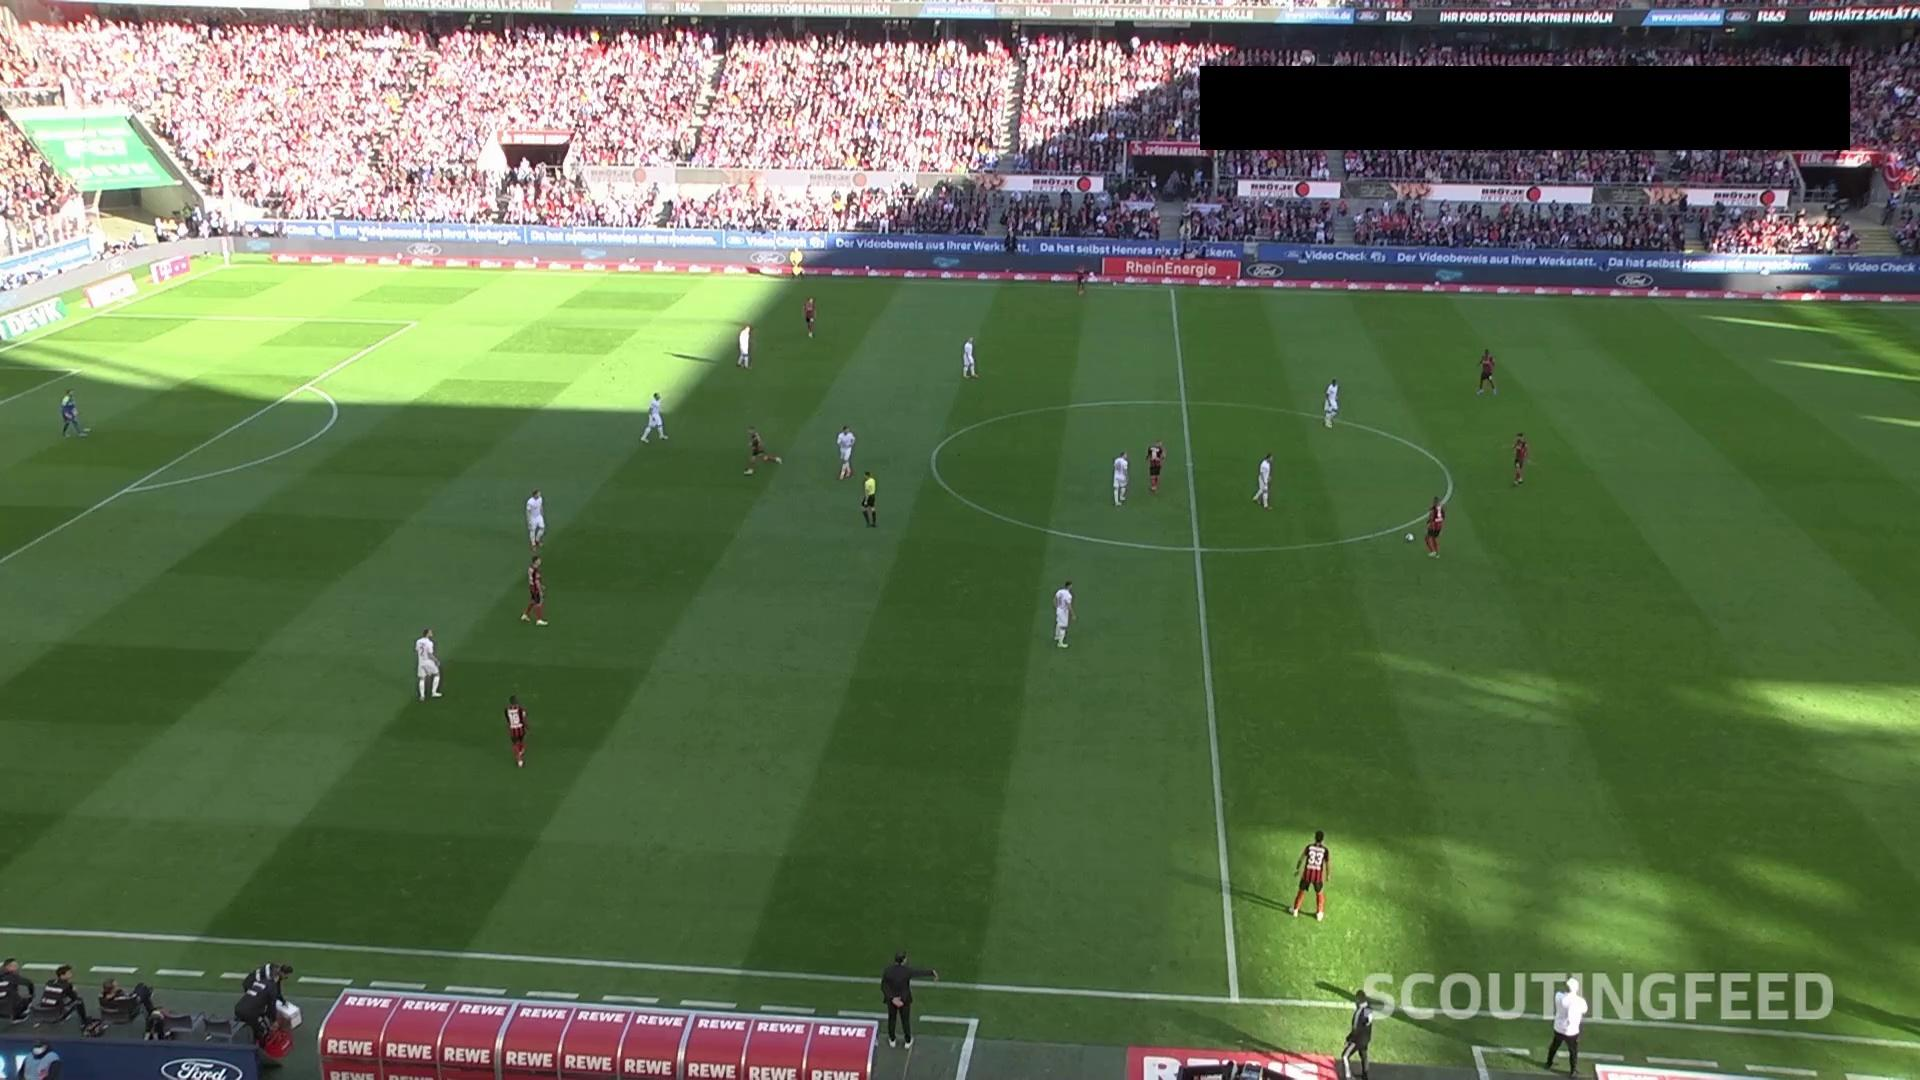Location-of-ball: (1393, 525, 1424, 554)
